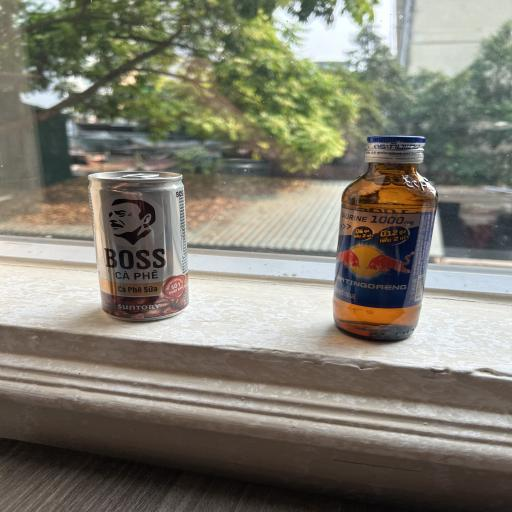bo_huc: (330, 133, 440, 345)
boss_coffee: (84, 168, 195, 326)
